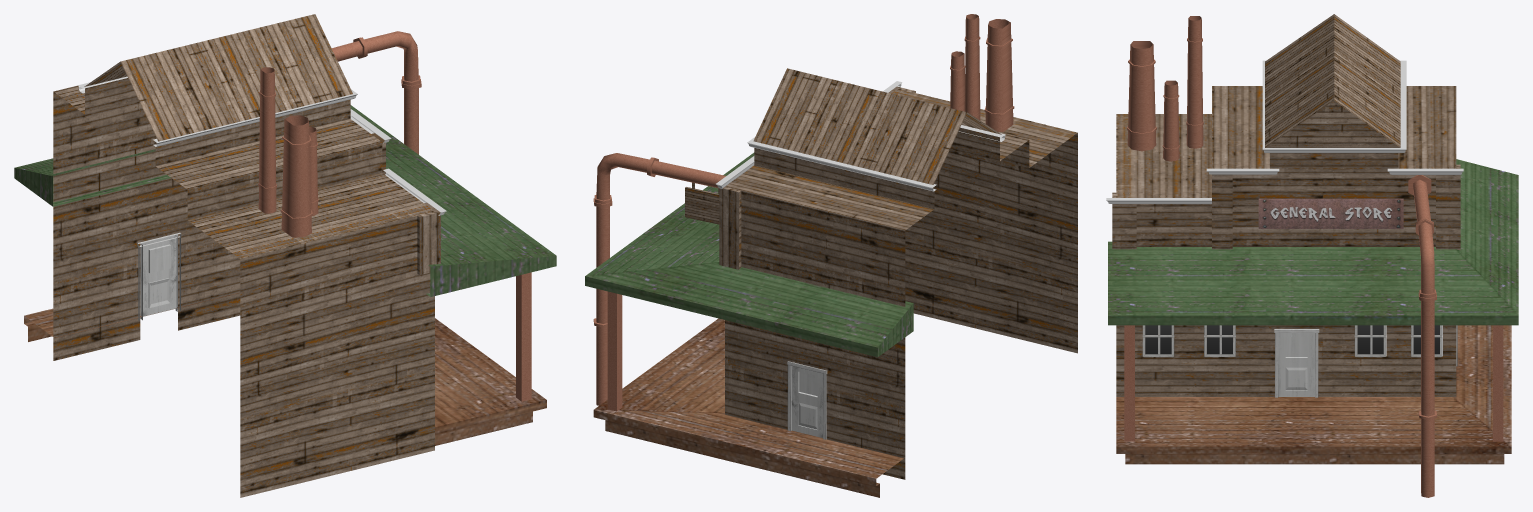
Rendered from generalStore_All_Together.fbx.
The picture shows the model from 3 angles, left to right: view 1: azimuth 30°, elevation 25°; view 2: azimuth 150°, elevation 25°; view 3: azimuth 270°, elevation 25°; orthographic projection. The views are drawn at different scales.
Parts seen in each view (by area): view 1: general_store, polySurface3, generalStore_platformLG, polySurface15, PipeStacks, Door1, GenStore_Stick_on, polySurface17; view 2: general_store, generalStore_platformLG, polySurface15, polySurface3, GenStore_Stick_on, PipeStacks, Door1, polySurface17; view 3: general_store, generalStore_platformLG, polySurface15, polySurface3, polySurface17, PipeStacks, GenStore_Stick_on, Door, glass, windows.
Part boxes in pixels (x1,y1,x2,y2): general_store: (53,78,440,497); polySurface3: (84,14,352,141); generalStore_platformLG: (14,105,556,401); polySurface15: (24,292,546,445); PipeStacks: (258,67,318,237); Door1: (137,232,181,320); GenStore_Stick_on: (331,31,421,154); polySurface17: (78,76,446,215); general_store: (719,86,1077,479); generalStore_platformLG: (585,152,913,411); polySurface15: (593,318,903,497); polySurface3: (753,68,1001,184); GenStore_Stick_on: (593,153,725,405); PipeStacks: (950,14,1014,131); Door1: (787,361,827,439); polySurface17: (716,81,1005,191); general_store: (1112,86,1460,396); generalStore_platformLG: (1108,159,1518,441); polySurface15: (1116,325,1511,464); polySurface3: (1265,14,1400,147); polySurface17: (1106,60,1463,228); PipeStacks: (1127,16,1203,161); GenStore_Stick_on: (1408,175,1436,497); Door: (1274,329,1319,397); glass: (1145,325,1439,354); windows: (1142,325,1442,356).
Bounding box in the file's own units: 1122 × 1175 × 1234.
